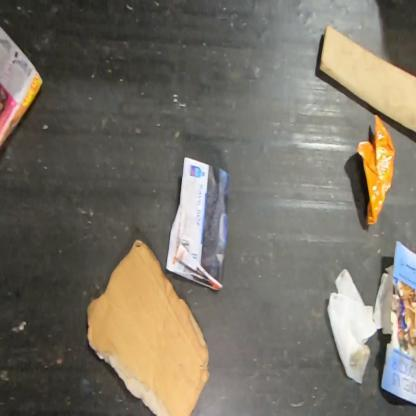cardboard: (84, 237, 212, 415), (318, 23, 415, 134)
soft_plastic: (356, 112, 396, 227)
